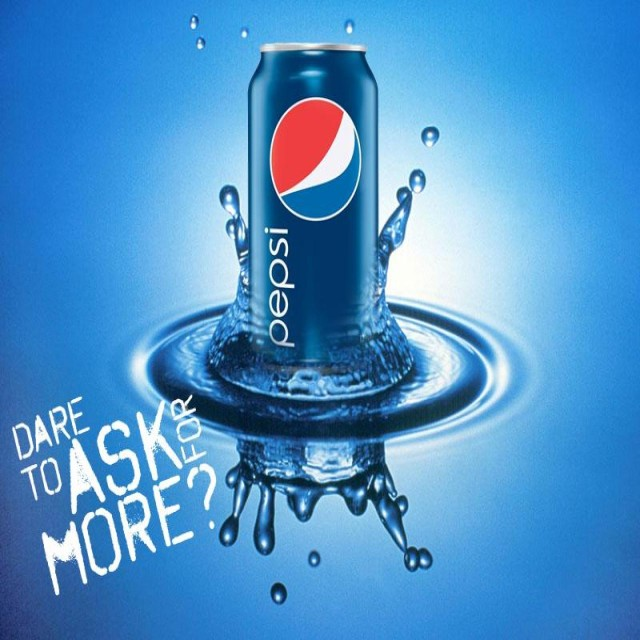pepsi: (266, 94, 365, 227)
